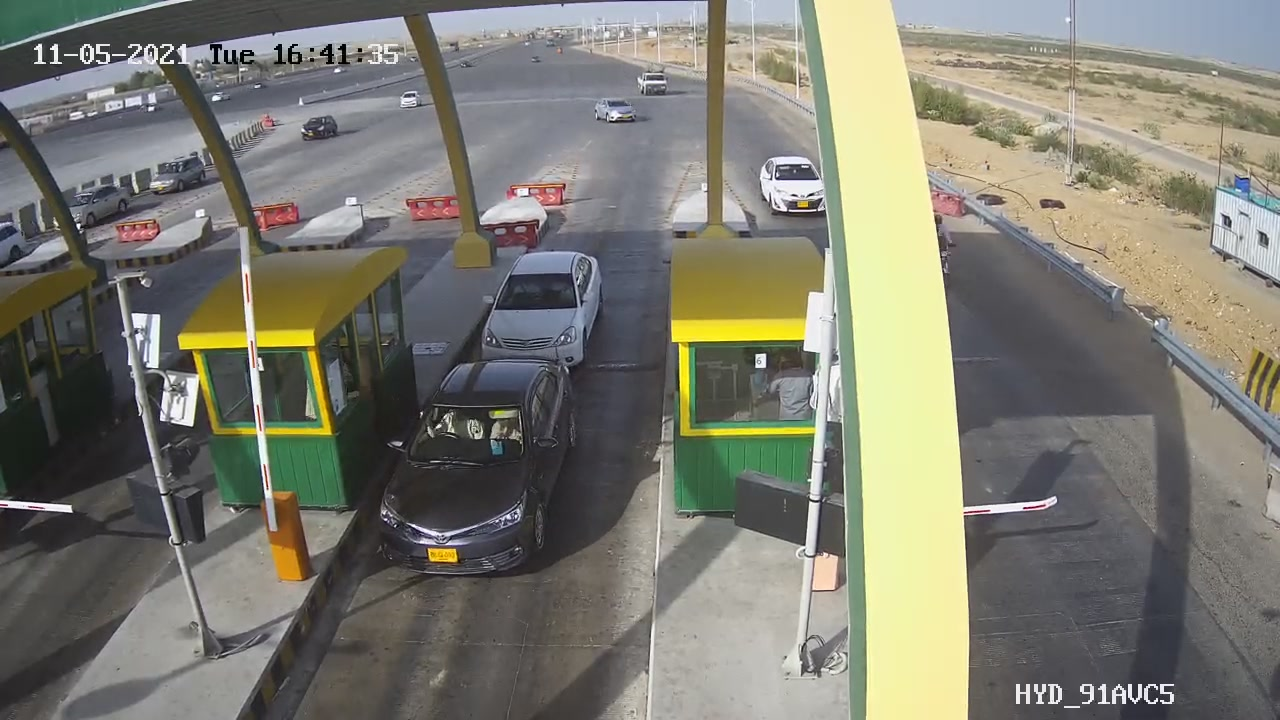F1: (352, 336, 602, 599), (455, 232, 641, 379)
